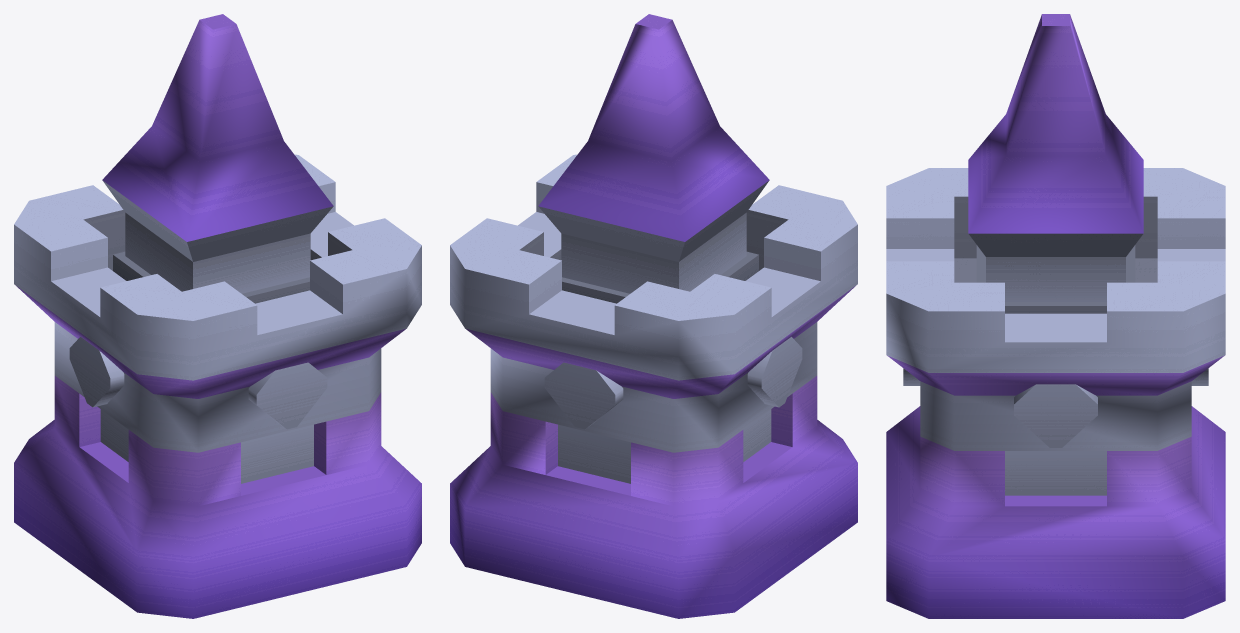
The model's file is tower-square-build-f.glb.
3 views of the same model, side by side, from view 1: azimuth 30°, elevation 25°; view 2: azimuth 150°, elevation 25°; view 3: azimuth 270°, elevation 25° (orthographic). The views are drawn at different scales.
Parts seen in each view (by area): view 1: tower-square-build-f; view 2: tower-square-build-f; view 3: tower-square-build-f.
Part boxes in pixels (x1,y1,x2,y2): tower-square-build-f: (14,14,421,618); tower-square-build-f: (450,14,857,618); tower-square-build-f: (886,14,1225,618).
Bounding box in the file's own units: 1 × 1.71 × 1.
Materials: 1 (1 with a texture image).
